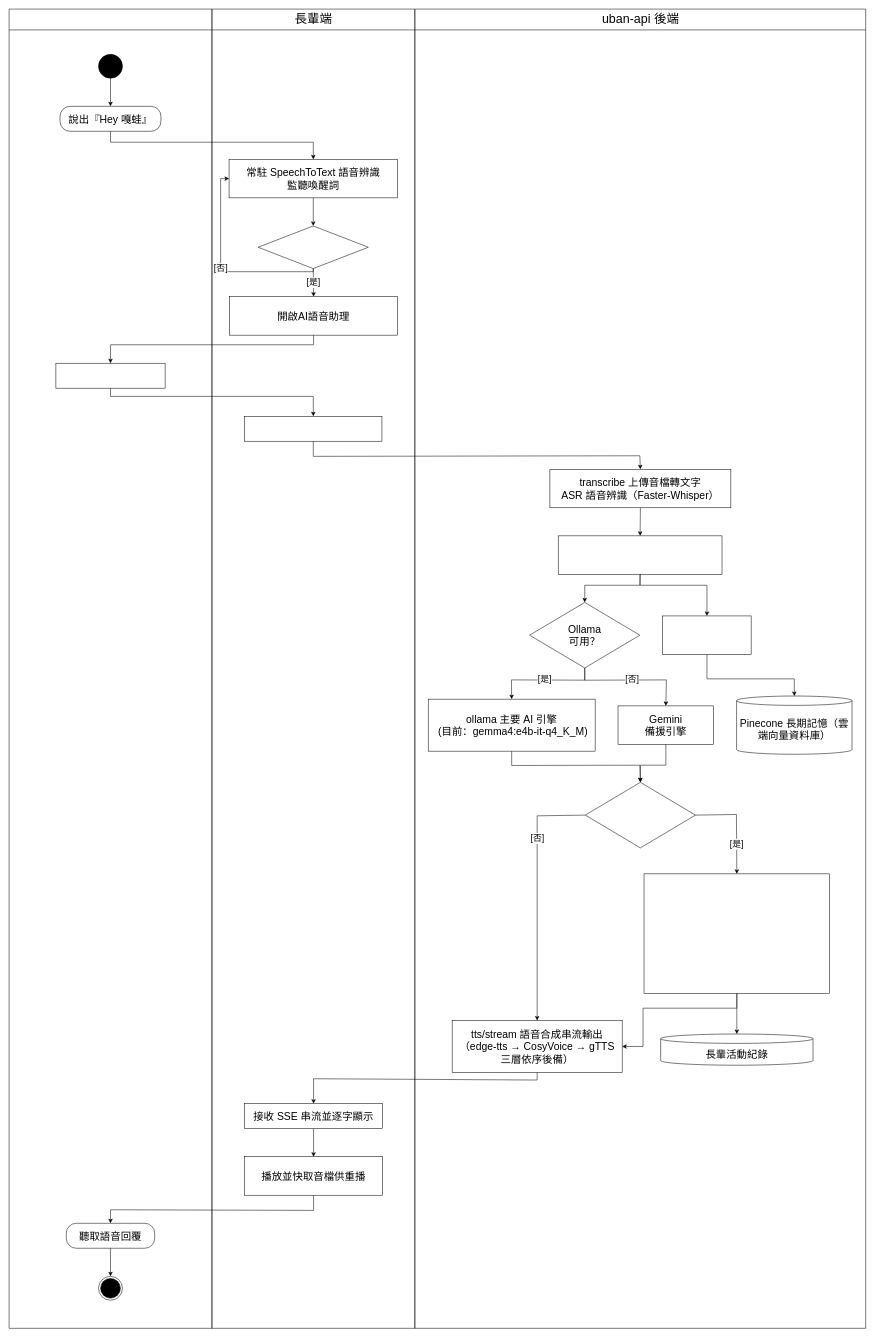
Image size: 875x1337. Some labels were removed from this diagram. The shapes that lost their labels are listed below. From the top down, each one's box as (x1, y1, x2, y2) in pixels, then its label:
(258, 225, 368, 269): 命中喚醒詞？
(55, 363, 165, 388): 說出問題或閒聊內容
(244, 416, 382, 441): 錄音 → 上傳 wav
(558, 535, 722, 574): AI 對話串流回覆 SSE 逐字浮現
(662, 615, 751, 654): 背景執行緒 向量化 upsert
(9, 9, 212, 1328): 長輩
(585, 782, 696, 848): 需要 呼叫工具？
(644, 873, 830, 993): AI 工具集： 查天氣、報時間、查新聞、記錄活動心情、服藥記錄
